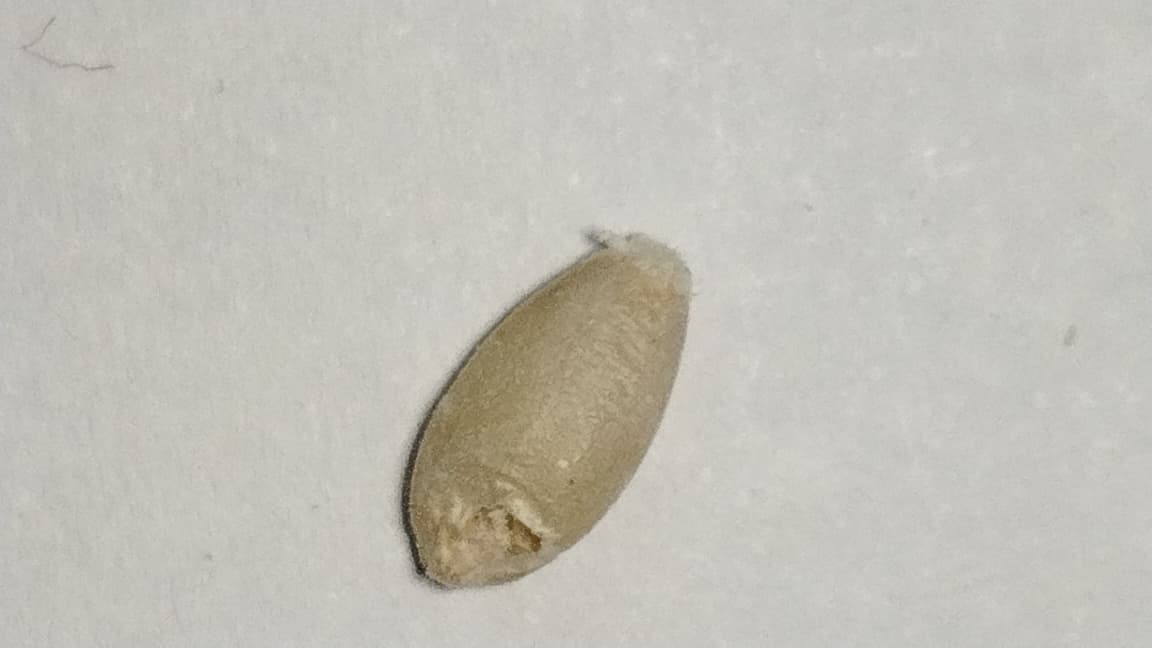damage: (401, 224, 692, 587)
insectdamage: (436, 443, 574, 587)
